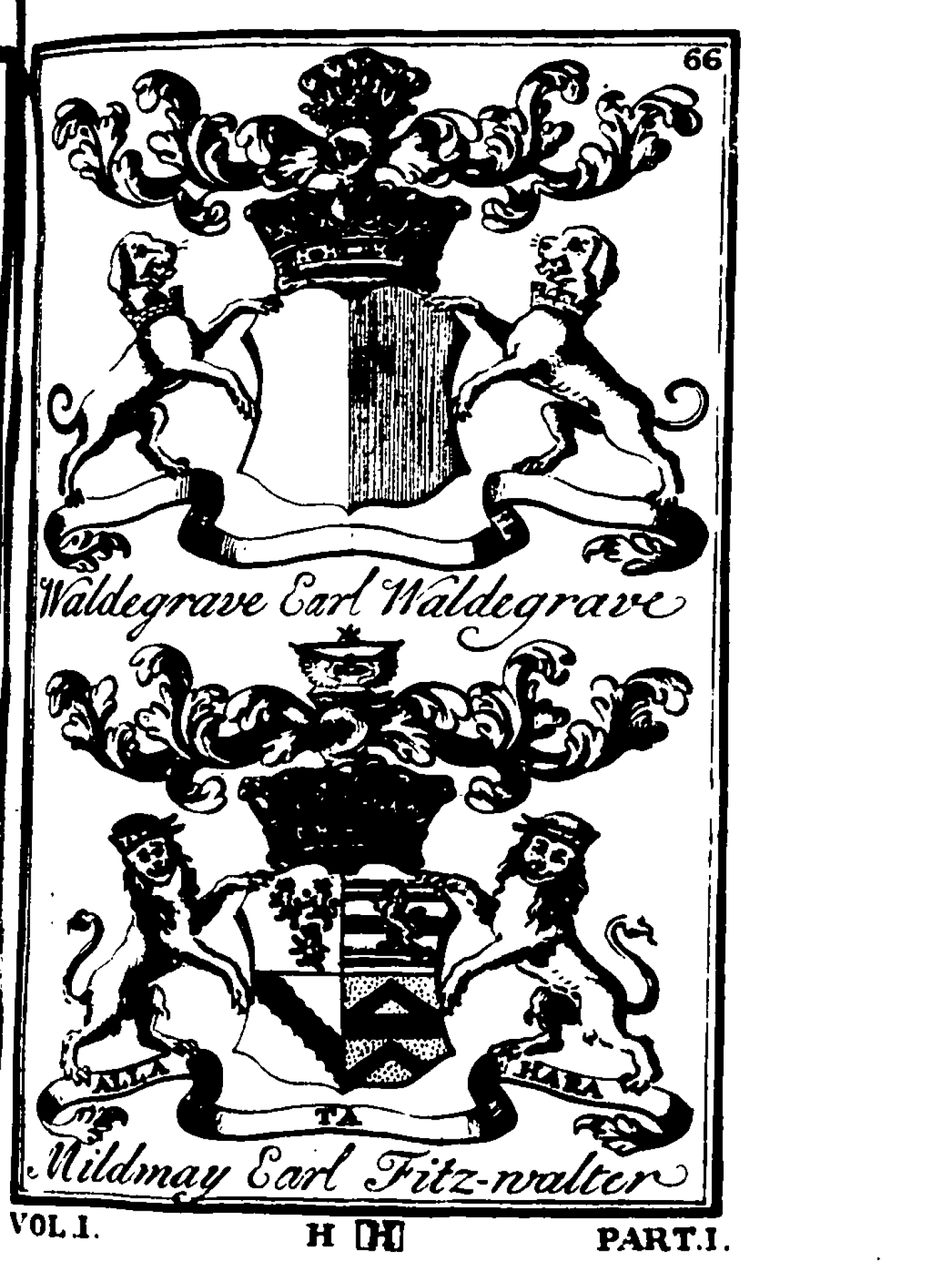coat_of_arms: (43, 626, 696, 1193), (55, 55, 698, 623)
